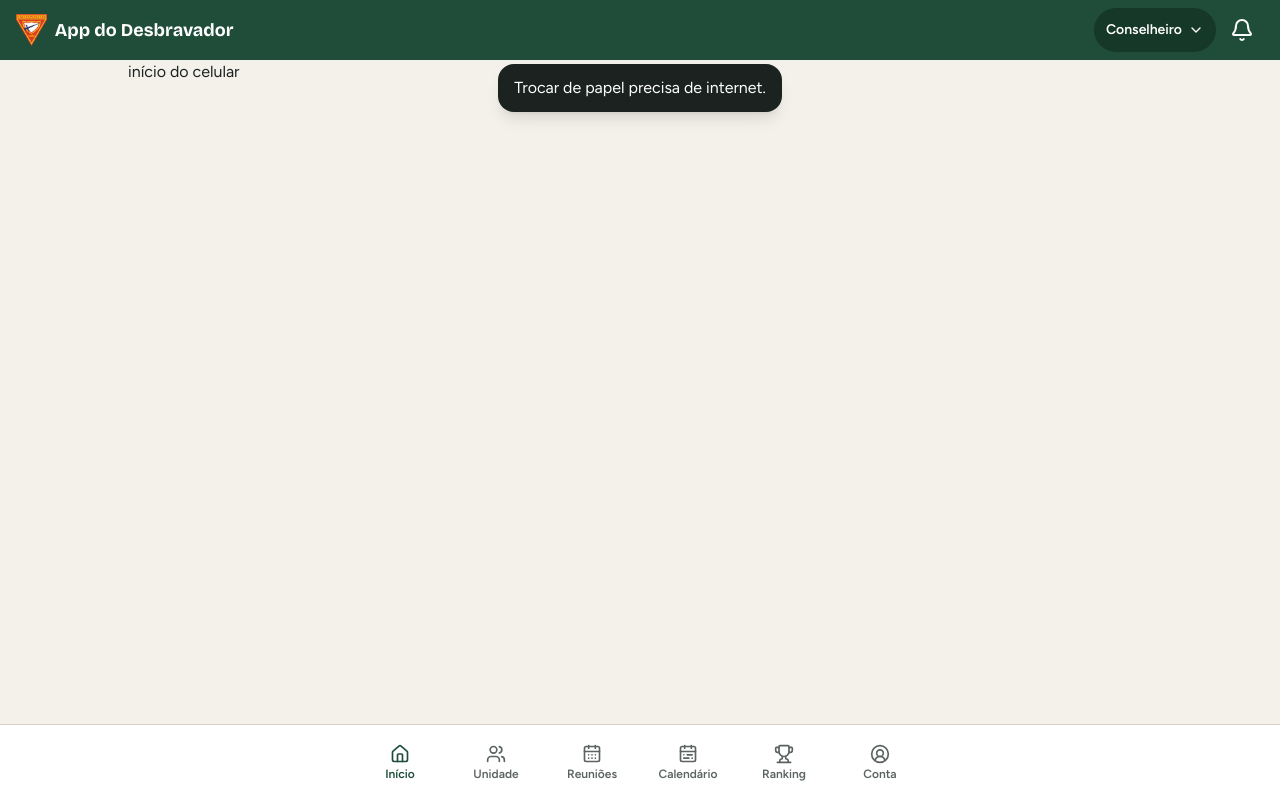
Test: selo do papel › avisa quando o papel que ficou para trás tem envios aguardando
Click the button with aria-label "Papel: Conselheiro. Trocar de papel" at x=1155, y=30, box [1094,8,1216,52]
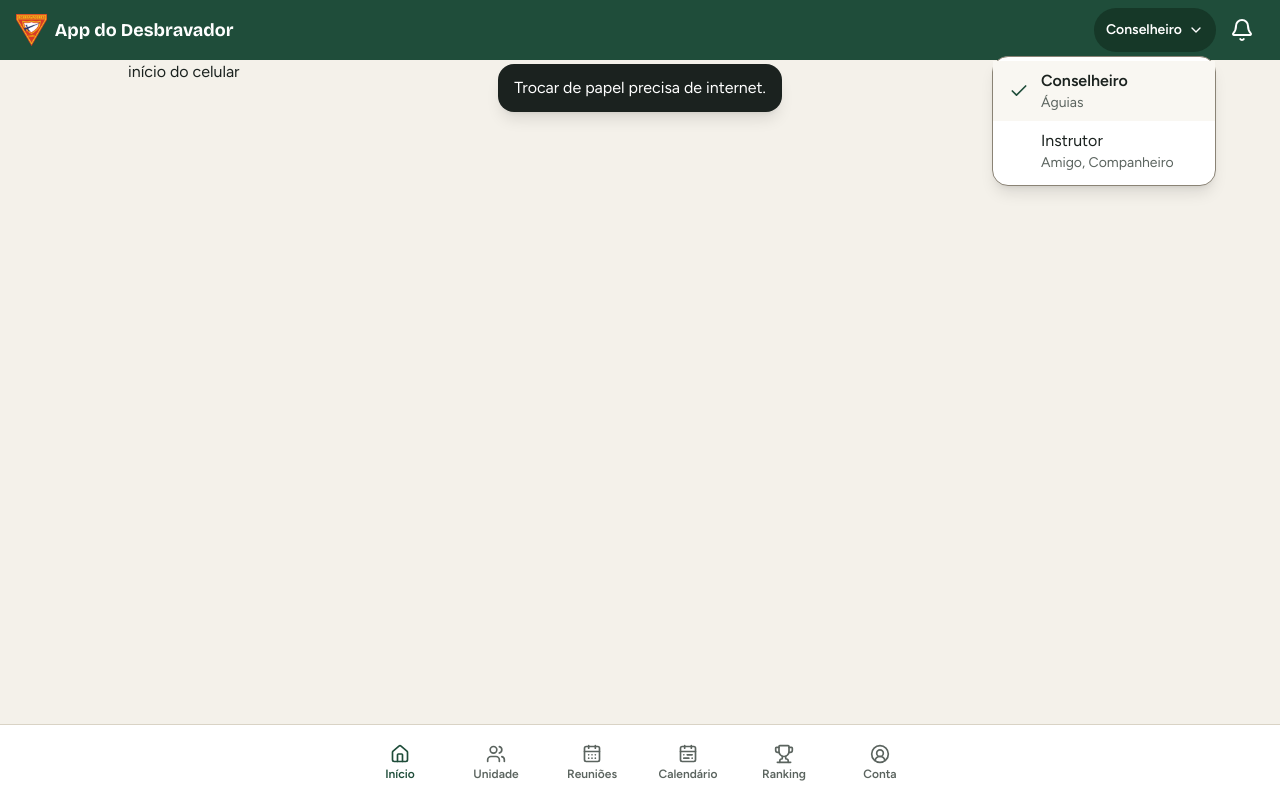
Click the menu item "Instrutor Amigo, Companheiro" at x=1104, y=151, box [993,121,1215,181]
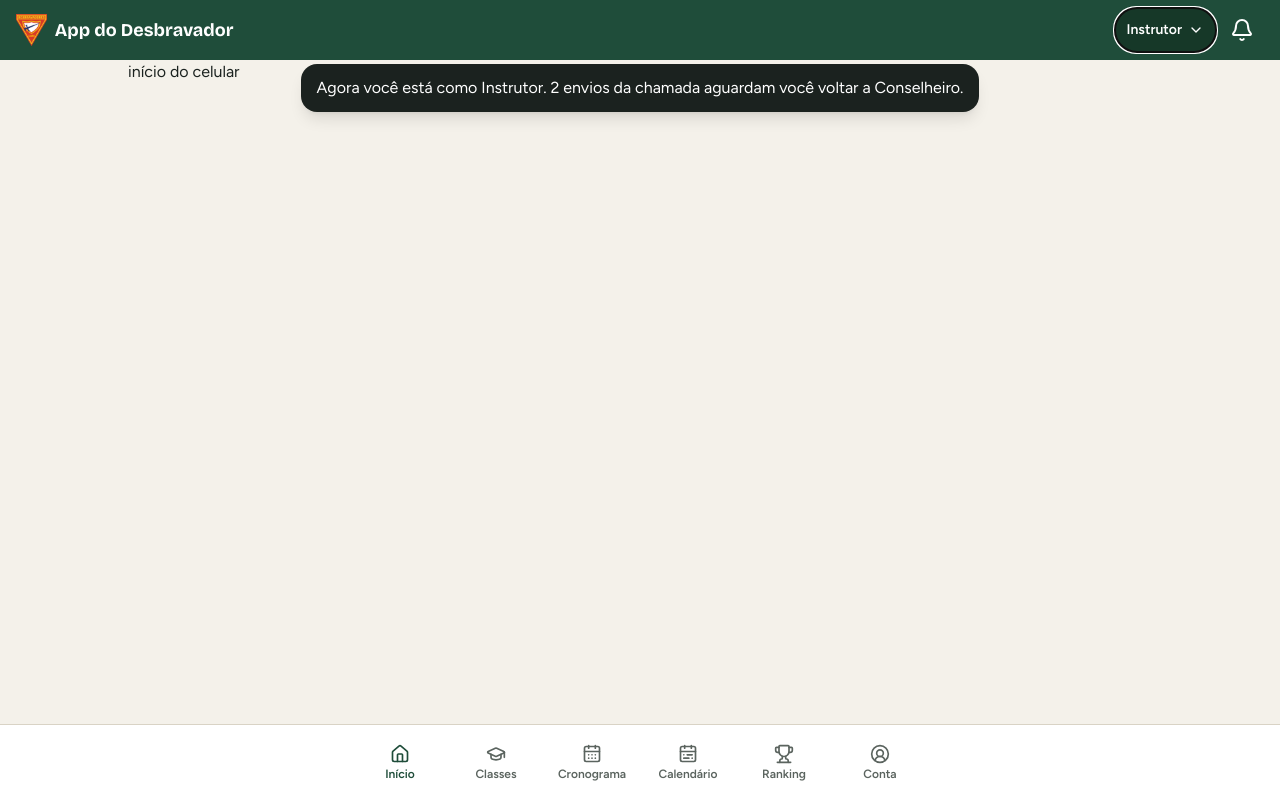
Now the message shows "Agora você está como Instrutor. 2 envios da chamada aguardam você voltar a Conselheiro.", box [317,78,963,97]
